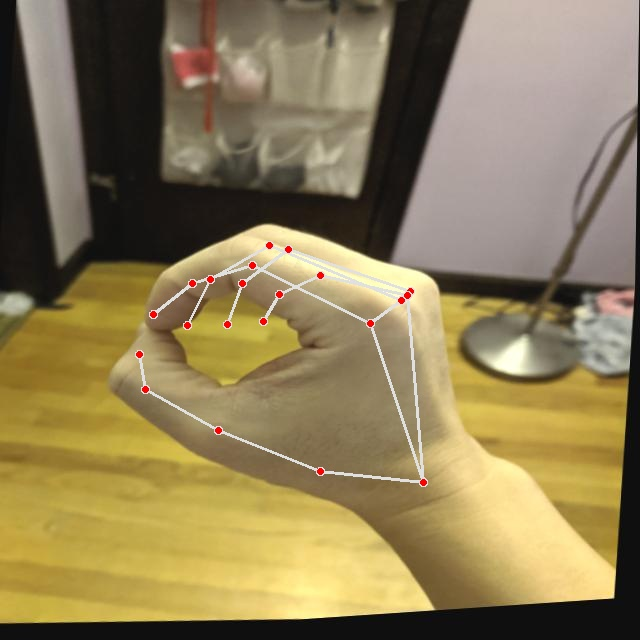O: (92, 203, 484, 536)
